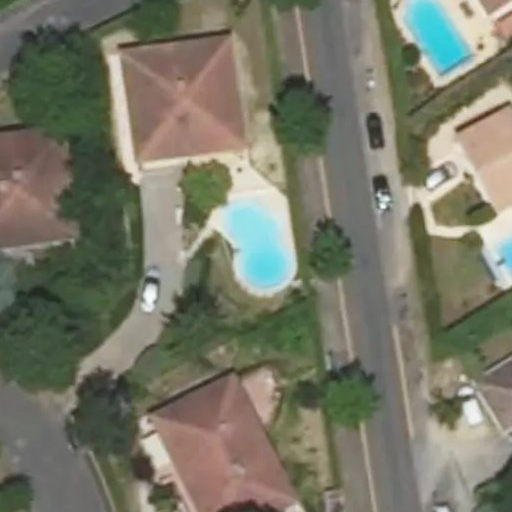pool: (216, 204, 301, 277)
